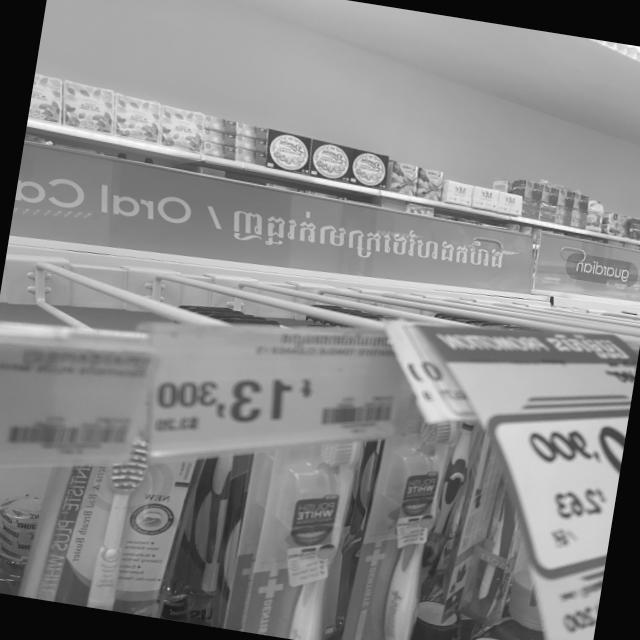Yolov11_80vkh: (220, 196, 507, 280)
